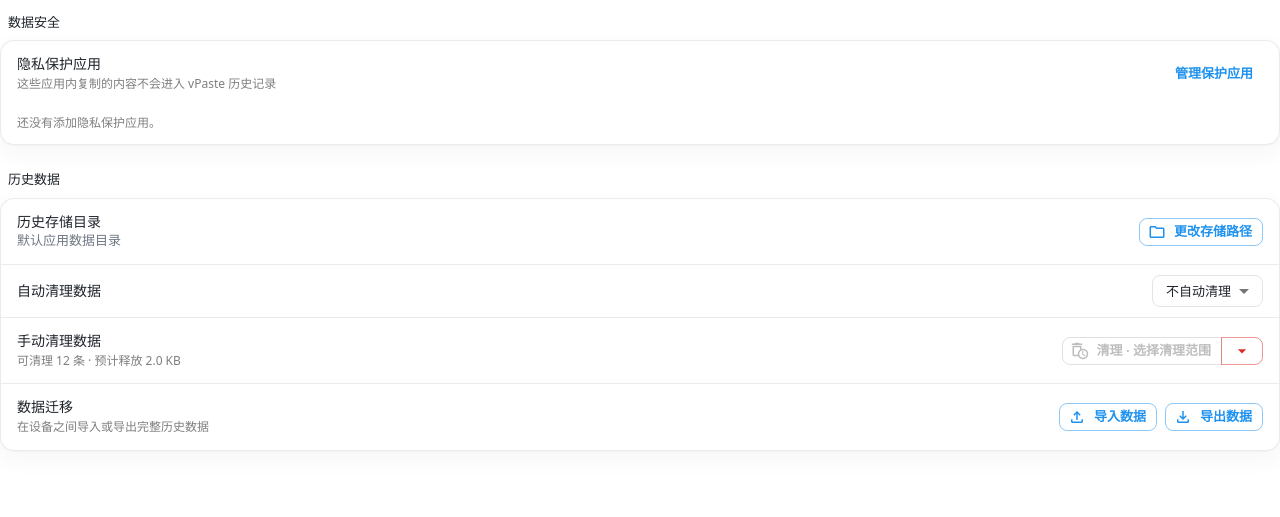
Automatic history cleanup › defaults to disabled and editing a rule does not save or delete
Expected: the text "手动清理数据" is shown, [17,331,101,350]
Click the dropdown named "自动清理数据". click: [1198, 291]
box: [1166,282,1231,300]
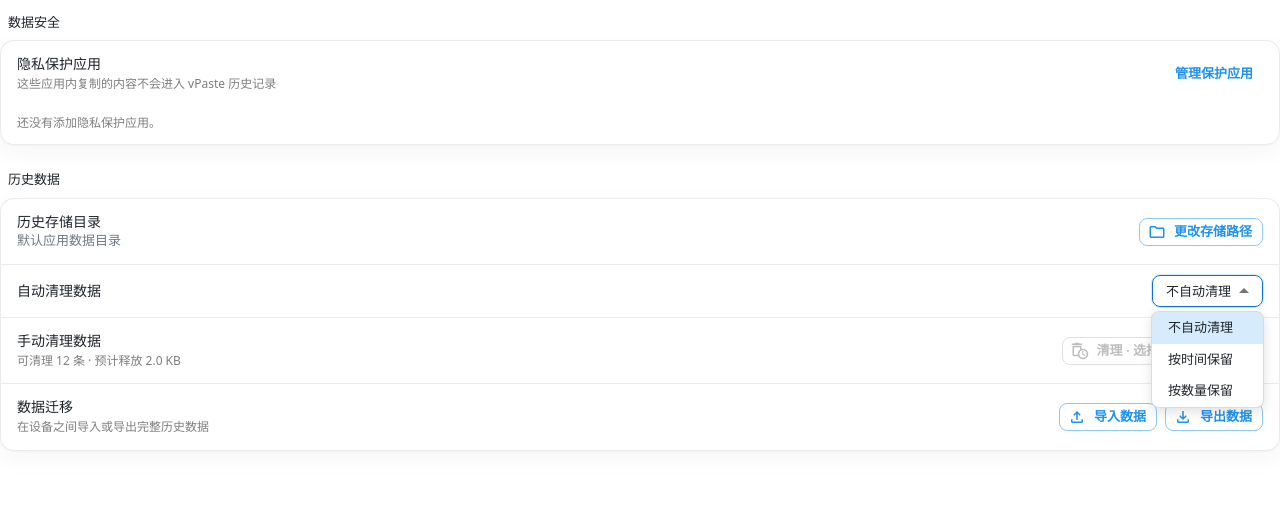
Click the option "按时间保留". click: [1200, 358]
box: [1168,350,1233,368]
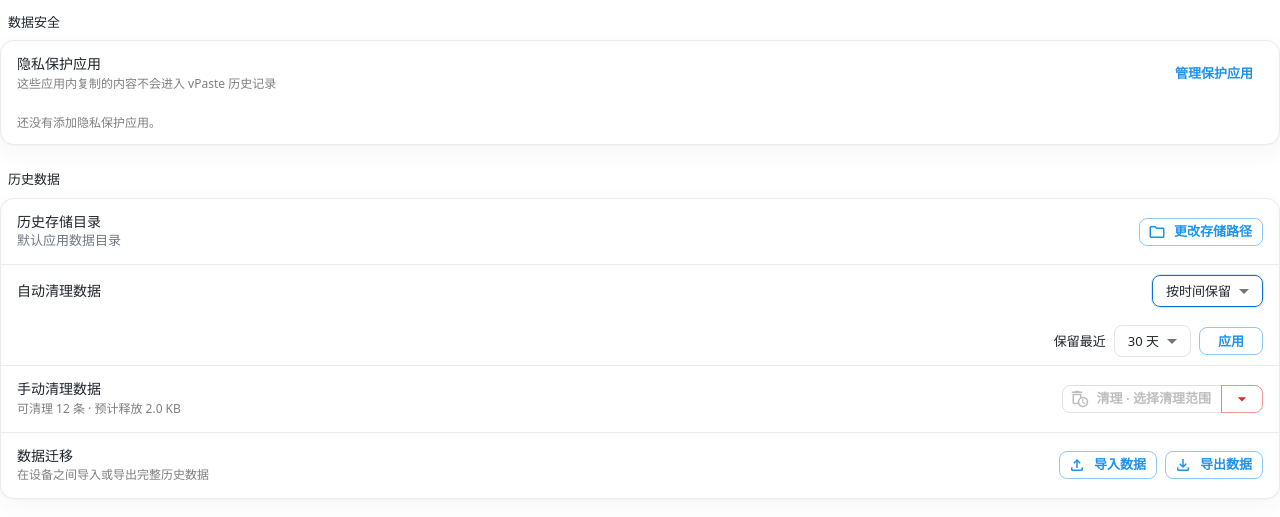
Now the dropdown named "保留范围" reads "30 天", box [1128,332,1159,350]
